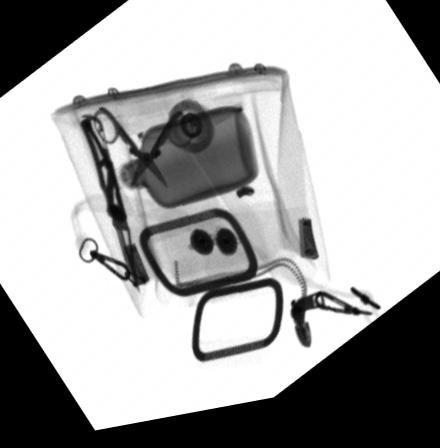Knife: (78, 117, 141, 300)
Scissors: (91, 109, 194, 195)
